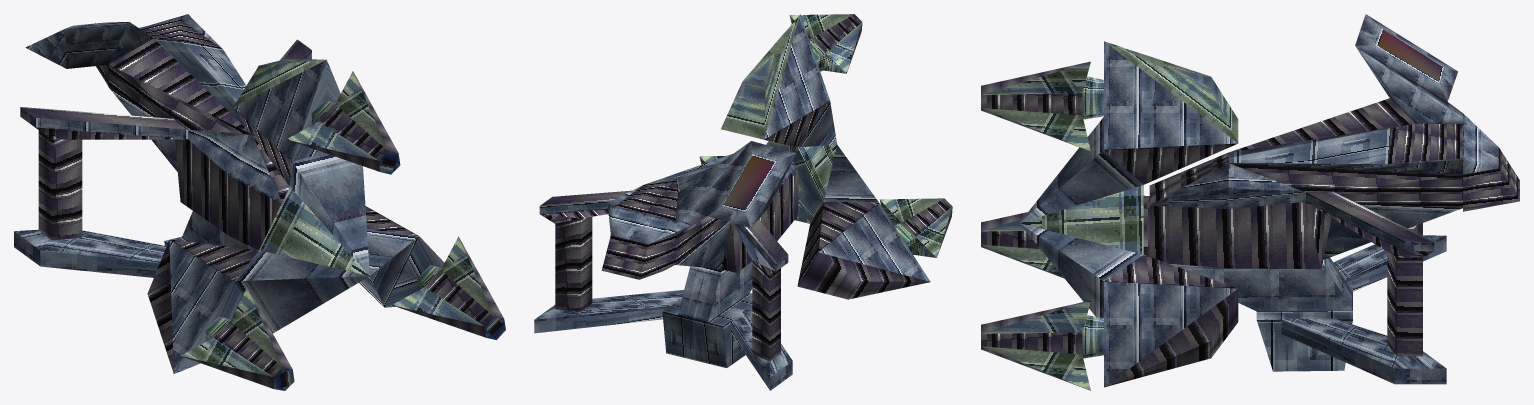
Rendered from 13-reaper-fp.glb.
3 renders of one model, left to right at view 1: azimuth 30°, elevation 25°; view 2: azimuth 150°, elevation 25°; view 3: azimuth 270°, elevation 25°, orthographic. The views are drawn at different scales.
Visible parts, largest first — view 1: gun; view 2: gun; view 3: gun.
Boxes of the visible parts, <box> form: gun: <box>14,14,505,390</box>; gun: <box>534,14,952,390</box>; gun: <box>981,14,1519,390</box>.
Bounding box in the file's own units: 433 × 431 × 671.
Materials: 12 (12 with a texture image).
